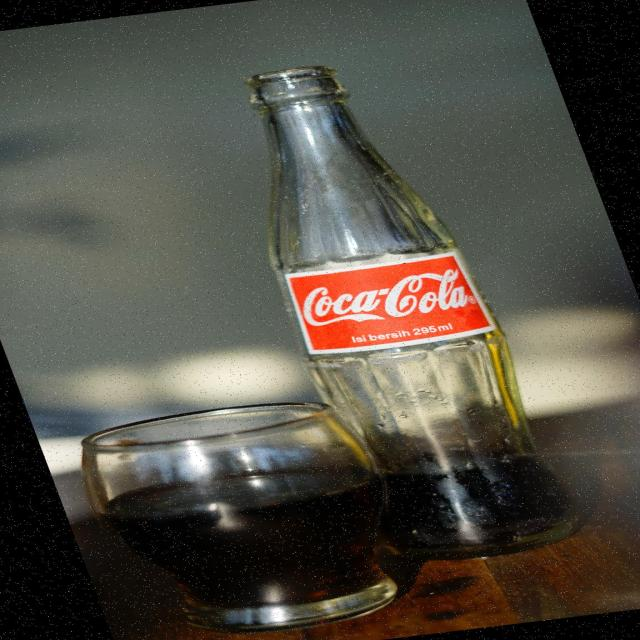coca-cola: (286, 265, 488, 336)
